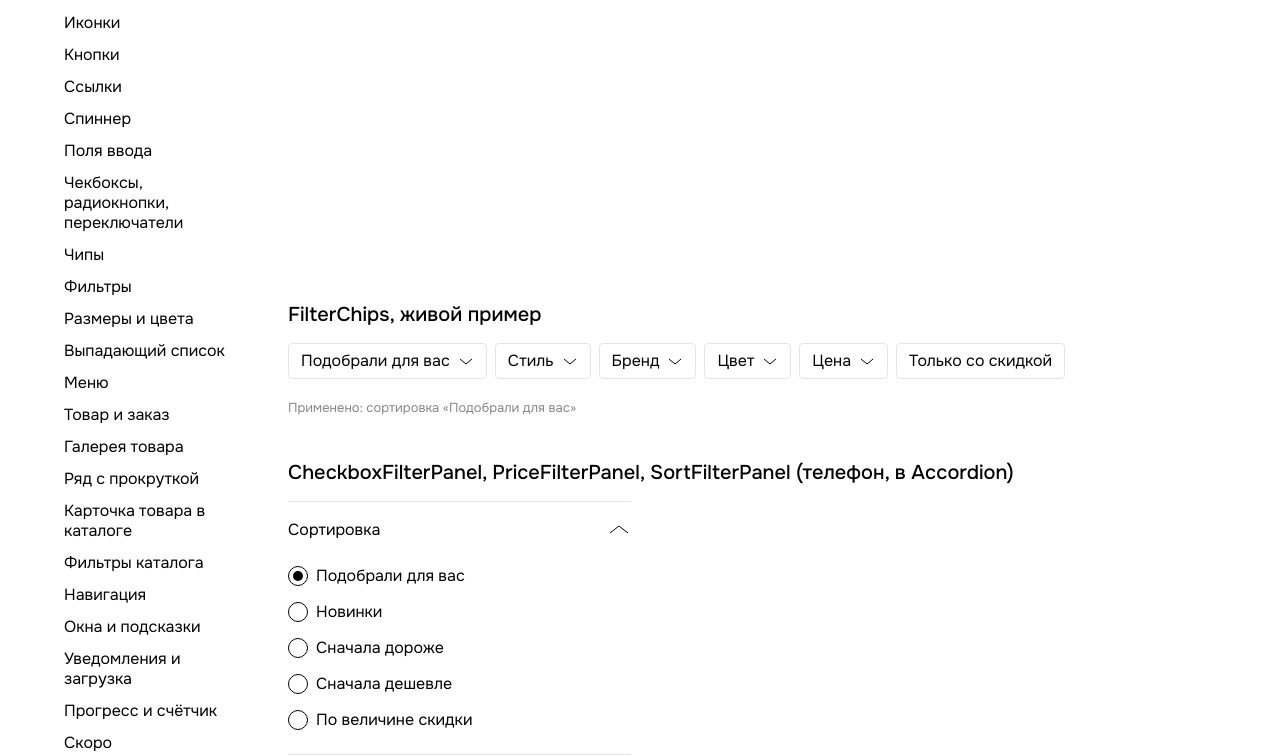
filters demo › applies a sort on click and closes
The width and height of the screenshot is (1280, 756).
(page scrolled)
What coordinates should you click on to do the following:
click the button "Подобрали для вас"
I would click on:
 (387, 361)
Its box is [289,344,486,378].
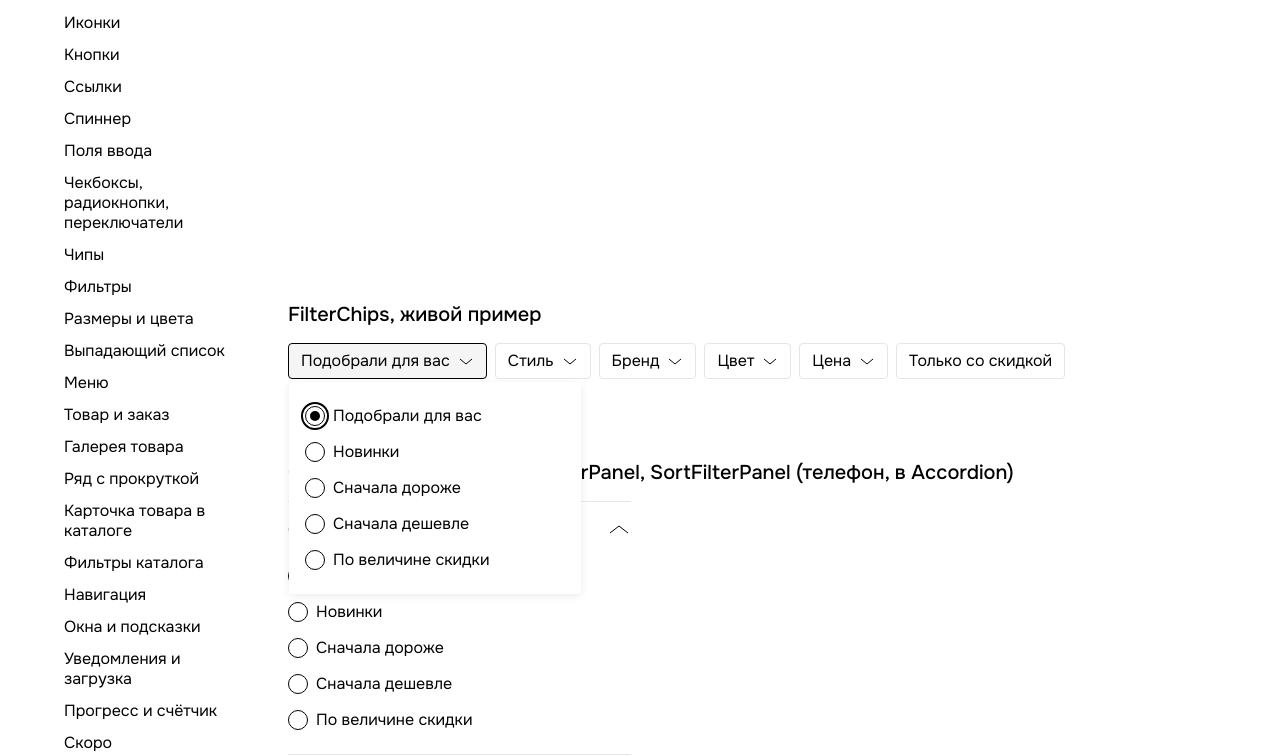
What coordinates should you click on to do the following:
click the 3rd radio button named "Сначала дороже"
I would click on:
 (315, 488)
Its box is [305,478,325,498].
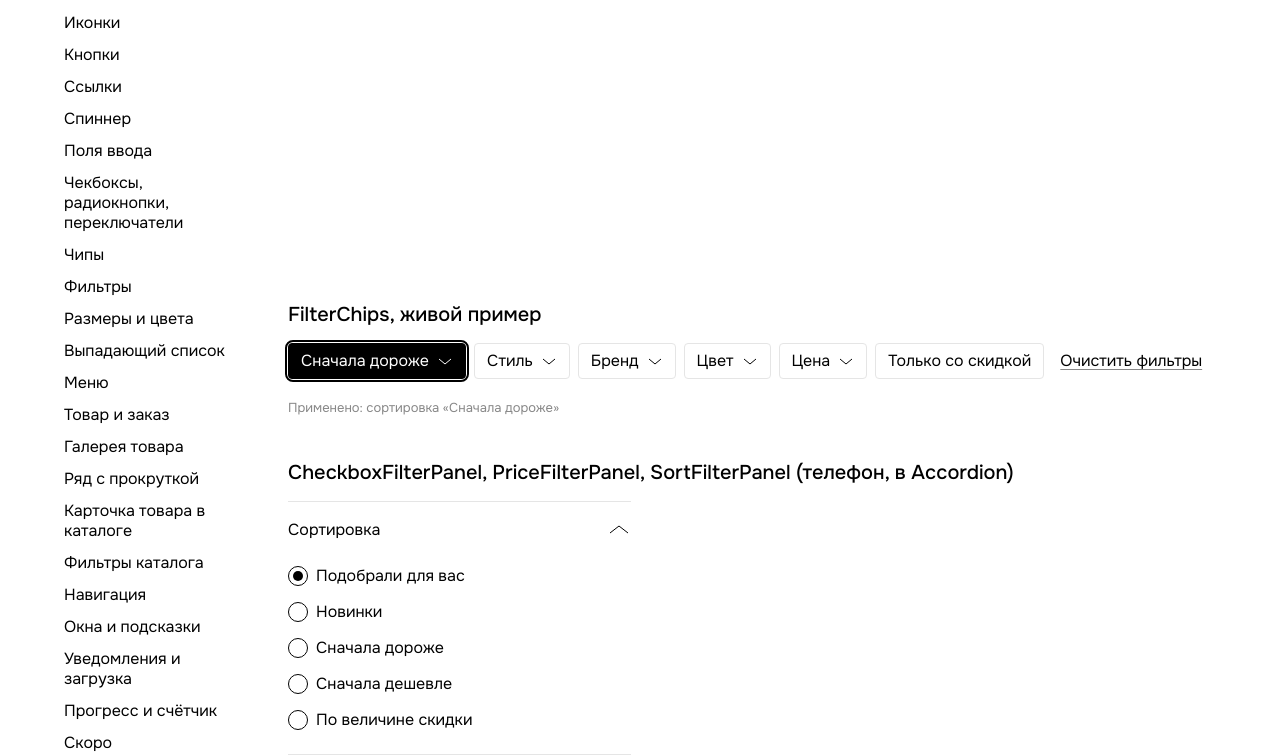
Check: the button "Сначала дороже" is shown, box [289,344,465,378]
Check: the text "Применено: сортировка «Сначала дороже»" is shown, box [288,400,559,416]
